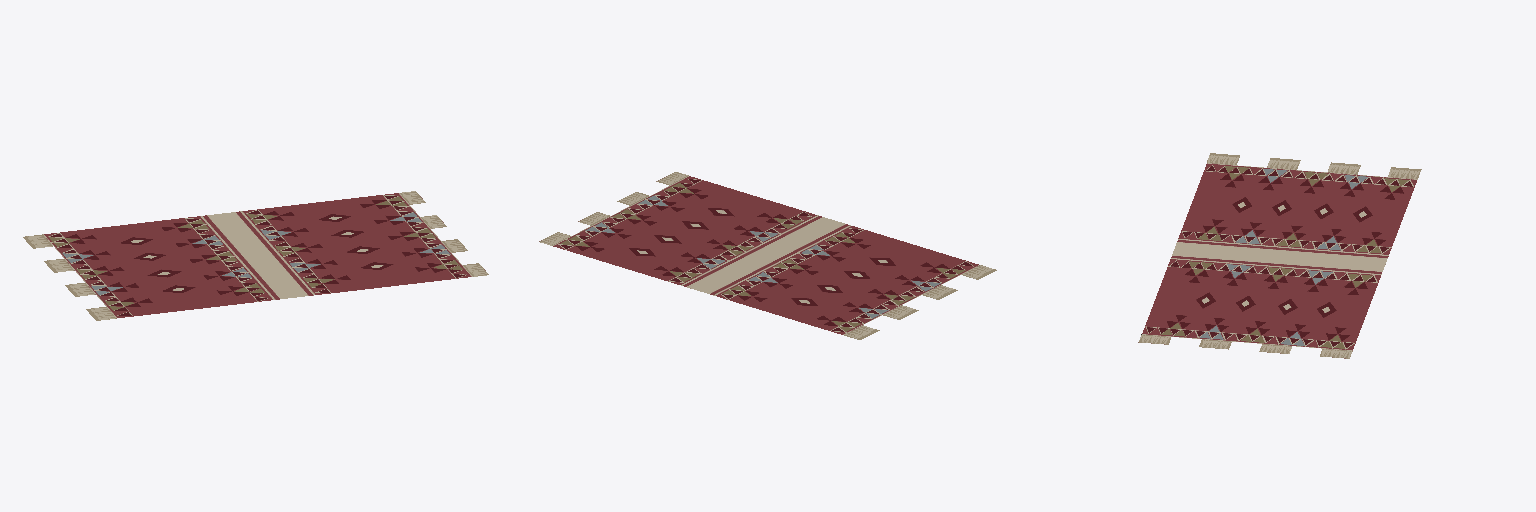
3 renders of one model, left to right at view 1: azimuth 30°, elevation 25°; view 2: azimuth 150°, elevation 25°; view 3: azimuth 270°, elevation 25°, orthographic.
Visible parts, largest first — view 1: Plane.030_Plane.029; view 2: Plane.030_Plane.029; view 3: Plane.030_Plane.029.
Part boxes in pixels (left/top/right/bottom): Plane.030_Plane.029: left=23, top=191, right=488, bottom=320; Plane.030_Plane.029: left=539, top=172, right=996, bottom=339; Plane.030_Plane.029: left=1138, top=153, right=1421, bottom=358.
Size of the model in its own units: 1.08 by 0.042 by 0.6815.
Materials: 1 (1 with a texture image).